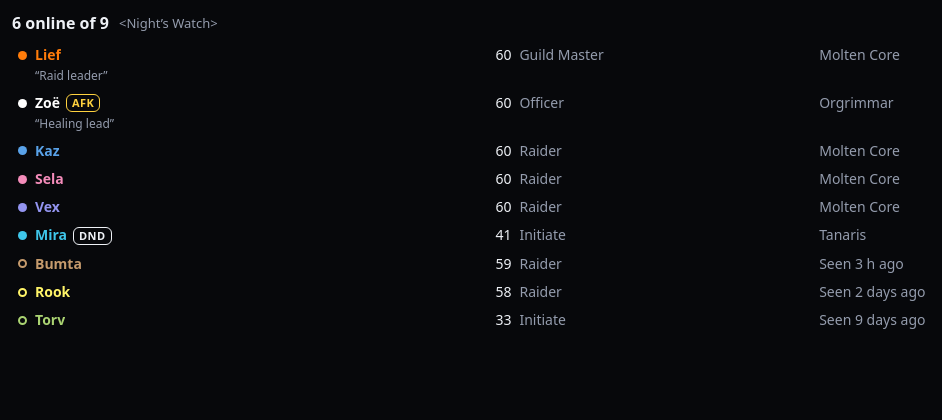
Test: Guild roster › never shows an officer note on stream, even with the setting on, and never asks for one
This screenshot has width=942, height=420.
Expected: the text "6 online of 9" is shown, [12,12,109,35]
# Nor in a member’s page.
Click the text "Lief". click: (48, 55)
box: [35,45,61,66]
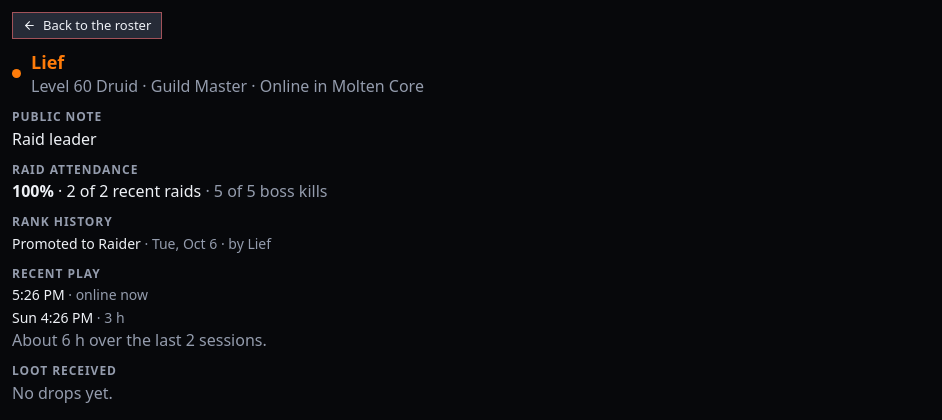
Now the heading "Raid attendance" is shown, box [12,161,138,178]
